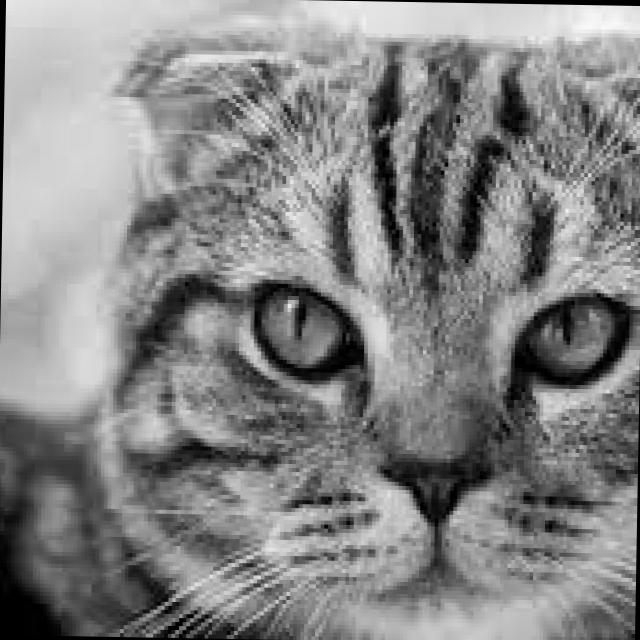scootish: (75, 7, 640, 640)
